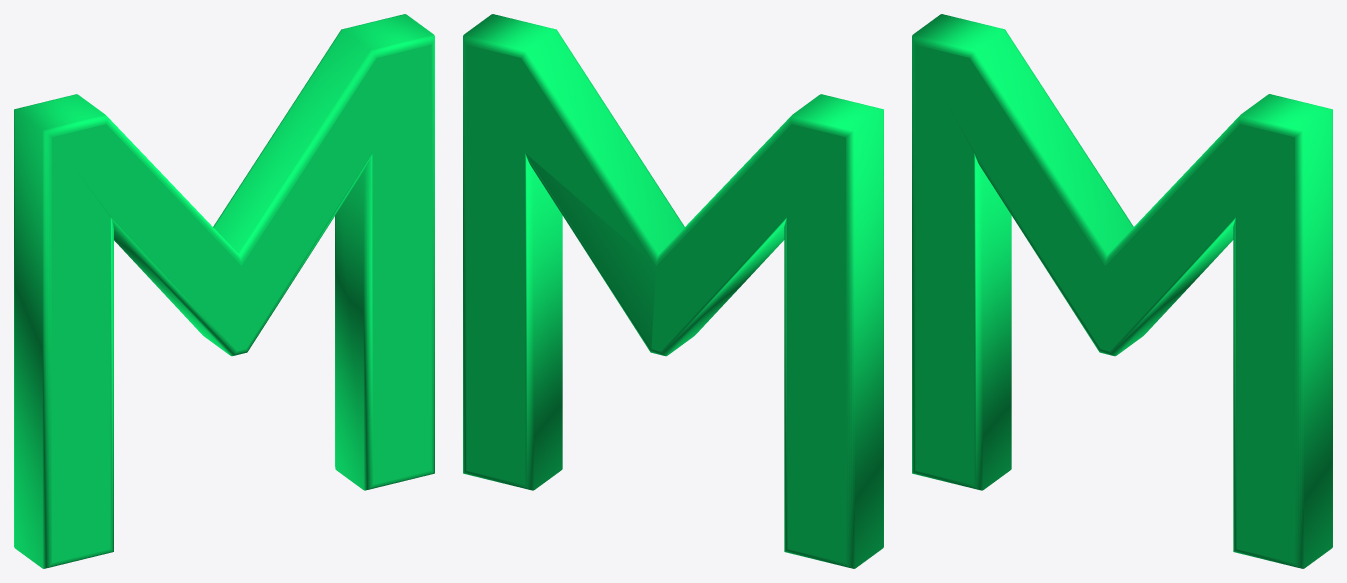
The picture shows the model from 3 angles, left to right: view 1: azimuth 30°, elevation 25°; view 2: azimuth 150°, elevation 25°; view 3: azimuth 330°, elevation 25°; orthographic projection.
Visible parts, largest first — view 1: MM; view 2: MM; view 3: MM.
Part boxes in pixels (x1,y1,x2,y2): MM: (14,14,434,568); MM: (463,14,883,568); MM: (912,14,1332,568).
Bounding box in the file's own units: 0.4672 × 0.5 × 0.0712.
